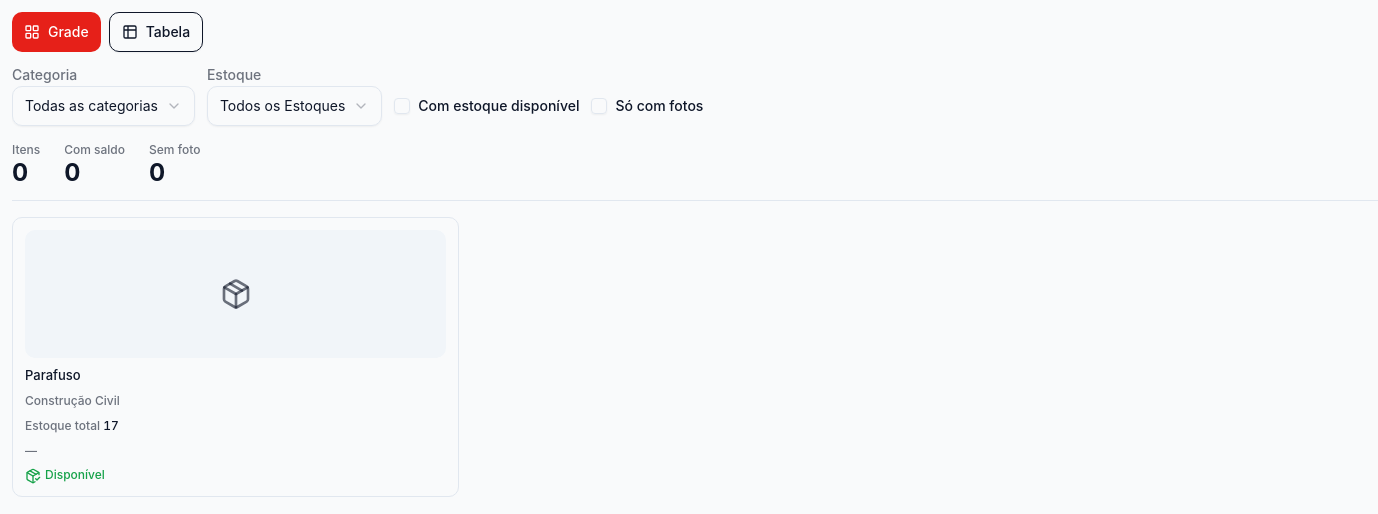
Test: CatalogoListagem — tabela agrupada (viewport ≥ 768px) › o alternador aparece e alterna para a tabela agrupada
The image size is (1378, 514).
expect the text "Parafuso" is shown: met, box [25, 367, 81, 383]
Click the button "Tabela" at x=156, y=32, box [109, 12, 203, 52]
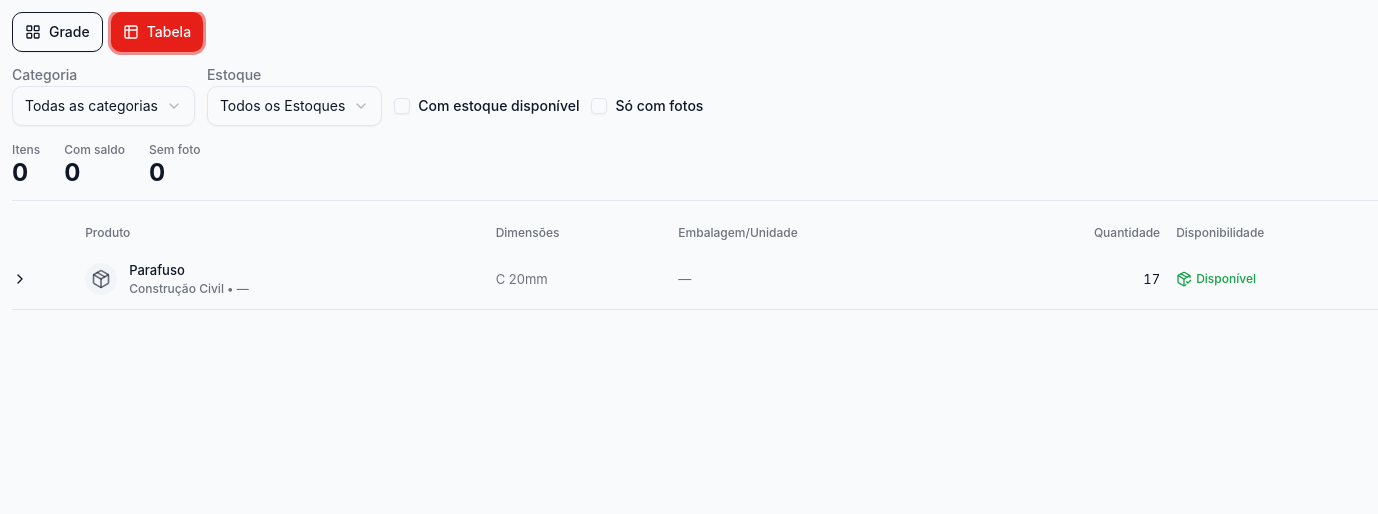
expect the column heading "Produto" is shown: met, box [85, 217, 496, 249]
